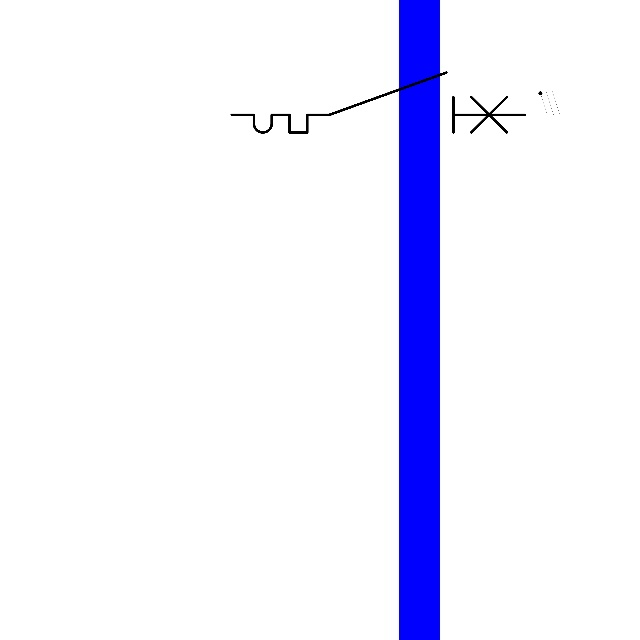interruptor_termomagnetico: (224, 65, 532, 140)
